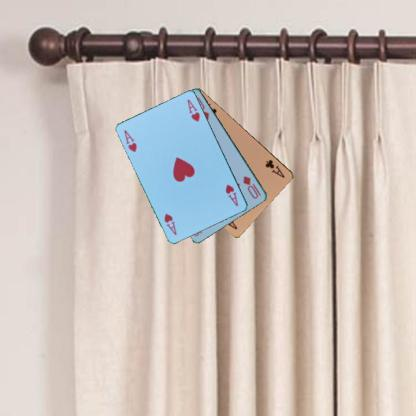10d: (240, 173, 262, 200)
Ac: (263, 157, 286, 179)
Ah: (121, 127, 138, 154), (223, 182, 239, 207)
